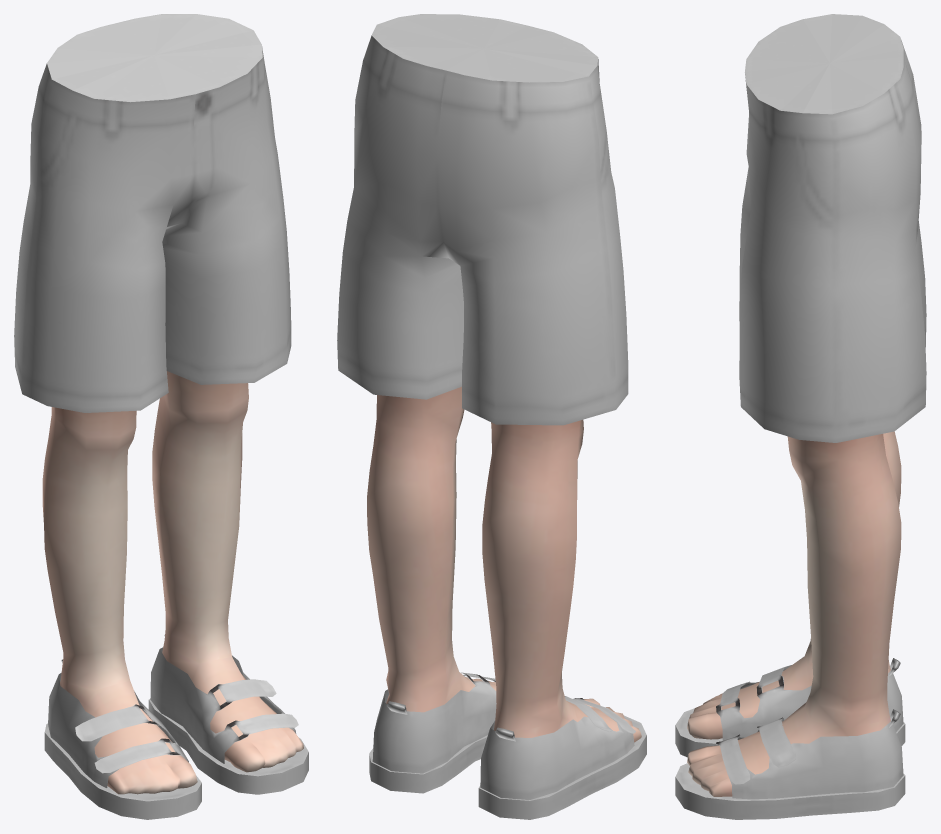
The model's file is tr0720_00_lwb01.gltf.
3 views of the same model, side by side, from view 1: azimuth 30°, elevation 25°; view 2: azimuth 150°, elevation 25°; view 3: azimuth 270°, elevation 25° (orthographic). The views are drawn at different scales.
Parts seen in each view (by area): view 1: lwb01_lowerbody_mesh_shape:lowerbody01, lwb01_lowerskin_mesh_shape:lowerbody01_skin, lwb01_shoes_mesh_shape:lowerbody01; view 2: lwb01_lowerbody_mesh_shape:lowerbody01, lwb01_lowerskin_mesh_shape:lowerbody01_skin, lwb01_shoes_mesh_shape:lowerbody01; view 3: lwb01_lowerbody_mesh_shape:lowerbody01, lwb01_lowerskin_mesh_shape:lowerbody01_skin, lwb01_shoes_mesh_shape:lowerbody01.
Part boxes in pixels (box(x1,y1,x2,y2)): lwb01_lowerbody_mesh_shape:lowerbody01: box(14, 14, 291, 412); lwb01_lowerskin_mesh_shape:lowerbody01_skin: box(42, 371, 303, 794); lwb01_shoes_mesh_shape:lowerbody01: box(44, 635, 308, 819); lwb01_lowerbody_mesh_shape:lowerbody01: box(337, 14, 628, 425); lwb01_lowerskin_mesh_shape:lowerbody01_skin: box(367, 386, 641, 742); lwb01_shoes_mesh_shape:lowerbody01: box(369, 672, 646, 819); lwb01_lowerbody_mesh_shape:lowerbody01: box(739, 14, 926, 442); lwb01_lowerskin_mesh_shape:lowerbody01_skin: box(687, 431, 901, 796); lwb01_shoes_mesh_shape:lowerbody01: box(675, 658, 905, 819).
Size of what is drawn, in the model's own units: 0.3737 by 0.9702 by 0.31.
Materials: 2 (2 with a texture image).
